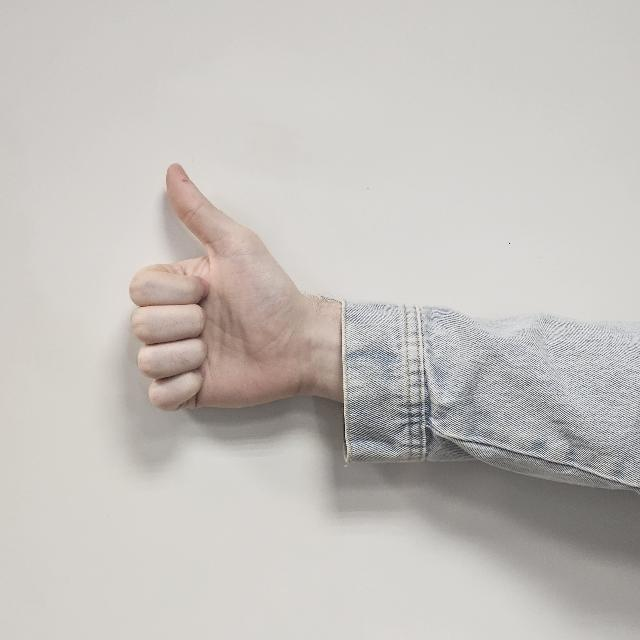Start: (128, 160, 324, 430)
